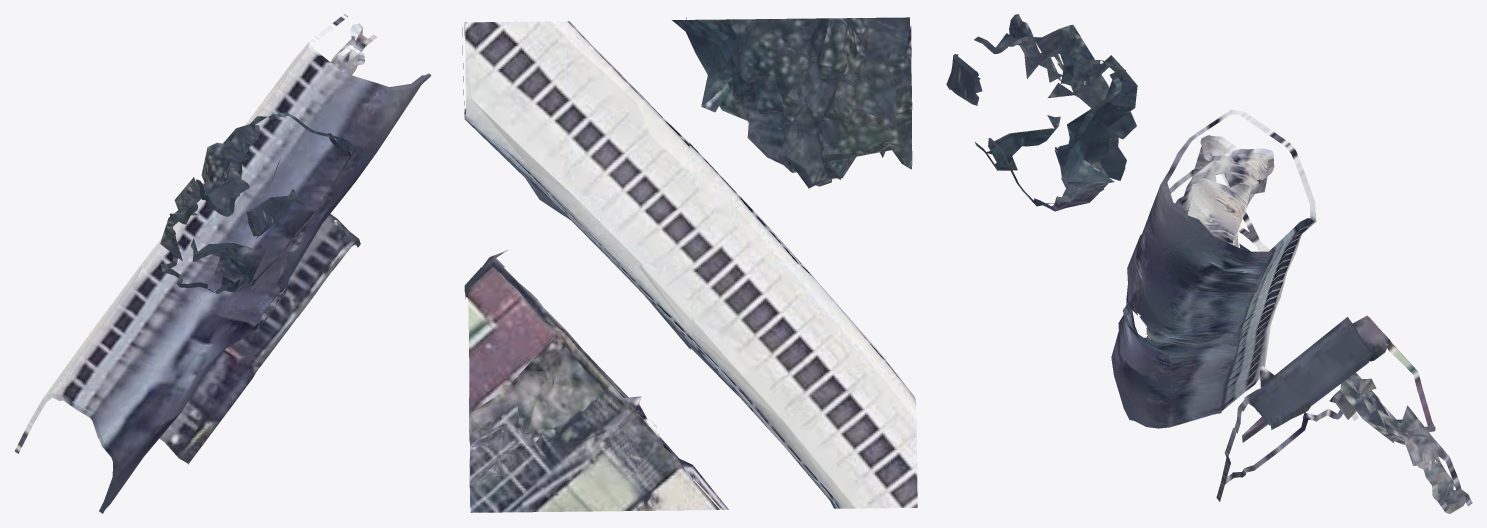
3 views of the same model, side by side, from view 1: azimuth 30°, elevation 25°; view 2: azimuth 150°, elevation 25°; view 3: azimuth 270°, elevation 25° (orthographic). The views are drawn at different scales.
Size of the model in its own units: 42.87 by 39.59 by 40.25.
Materials: 2 (2 with a texture image).
